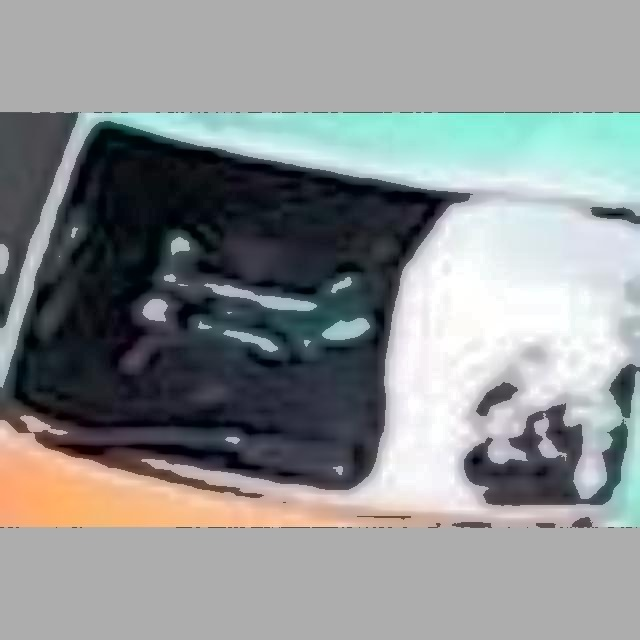tidak-pakai: (141, 204, 373, 394)
